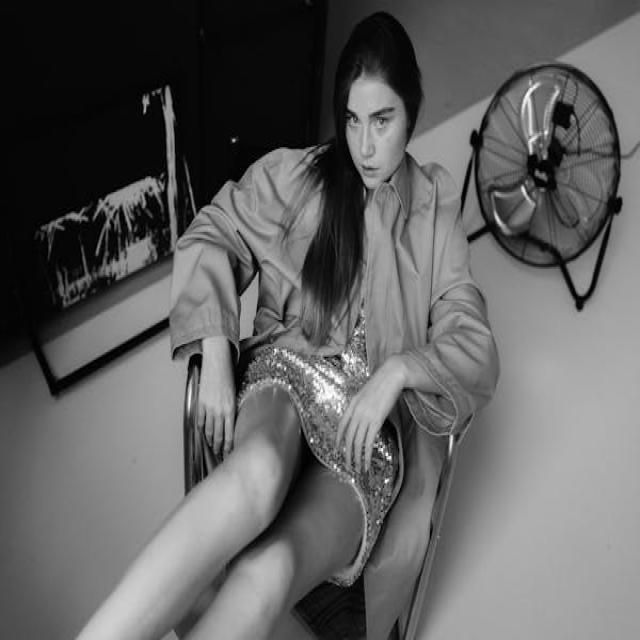Edited images: (125, 16, 508, 640)
